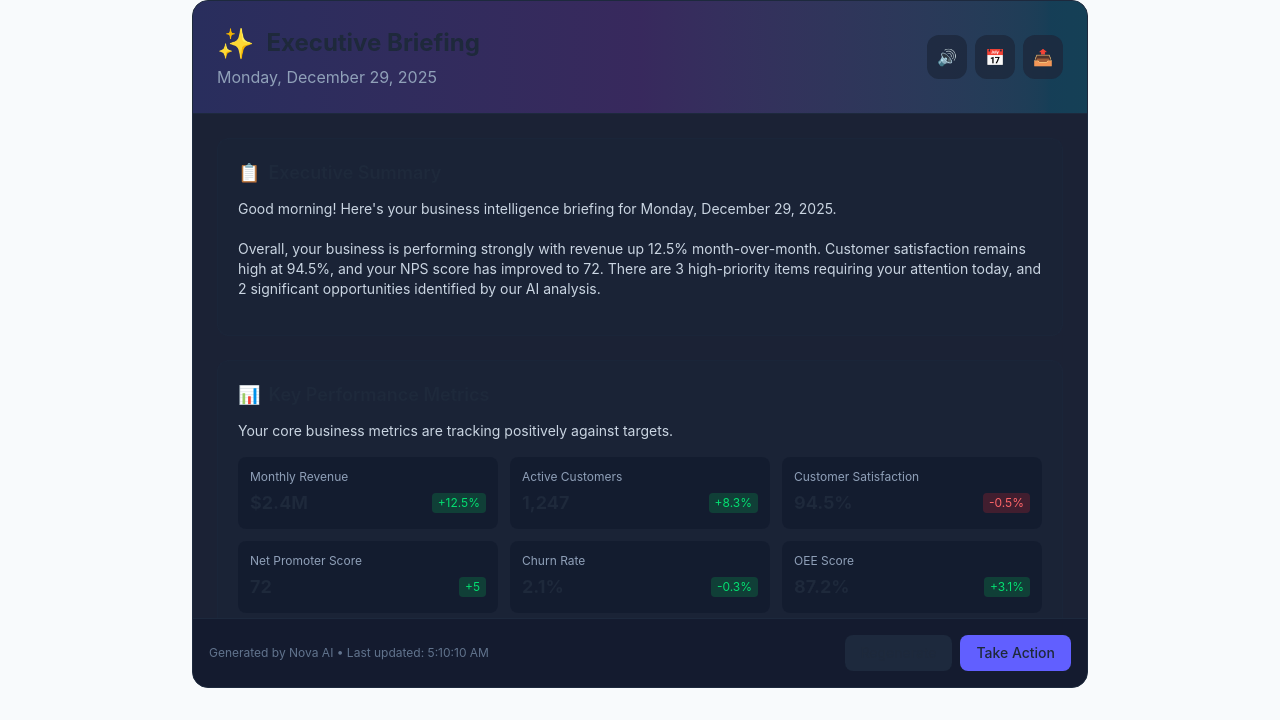
Test case: ExecutiveBriefing Component › Schedule Modal › should display day selection buttons
Click the button titled "Schedule briefings": (995, 57) x1=975 y1=35 x2=1015 y2=79
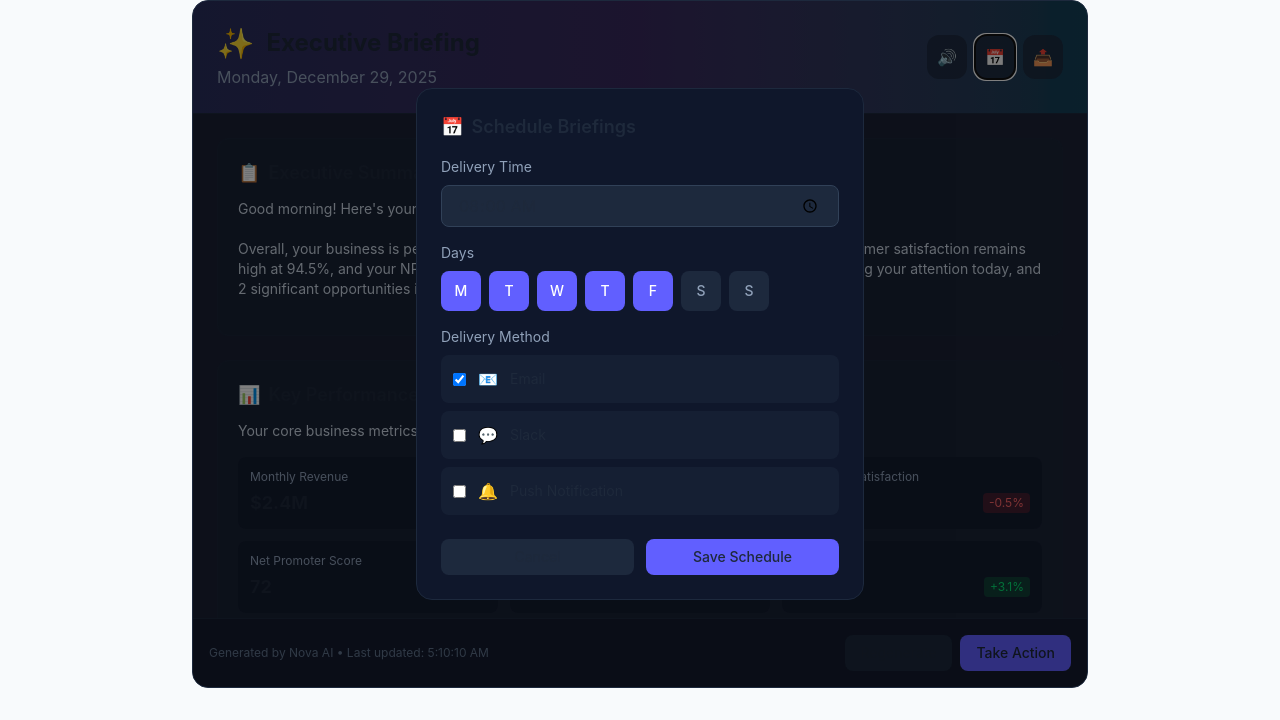
expect the text "Days" is shown: met, box x1=441 y1=244 x2=474 y2=261
